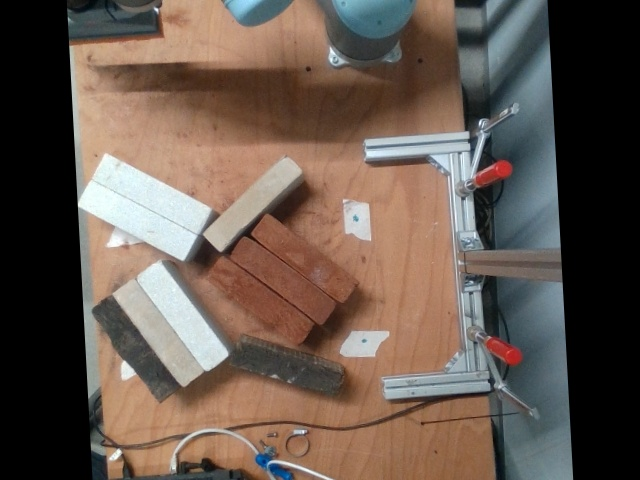brick-side: (138, 265, 226, 370), (114, 280, 202, 385), (90, 296, 178, 401), (204, 155, 300, 248), (234, 238, 335, 323), (253, 217, 354, 301), (210, 258, 311, 342), (95, 155, 206, 231), (81, 182, 192, 257), (230, 345, 341, 397)
